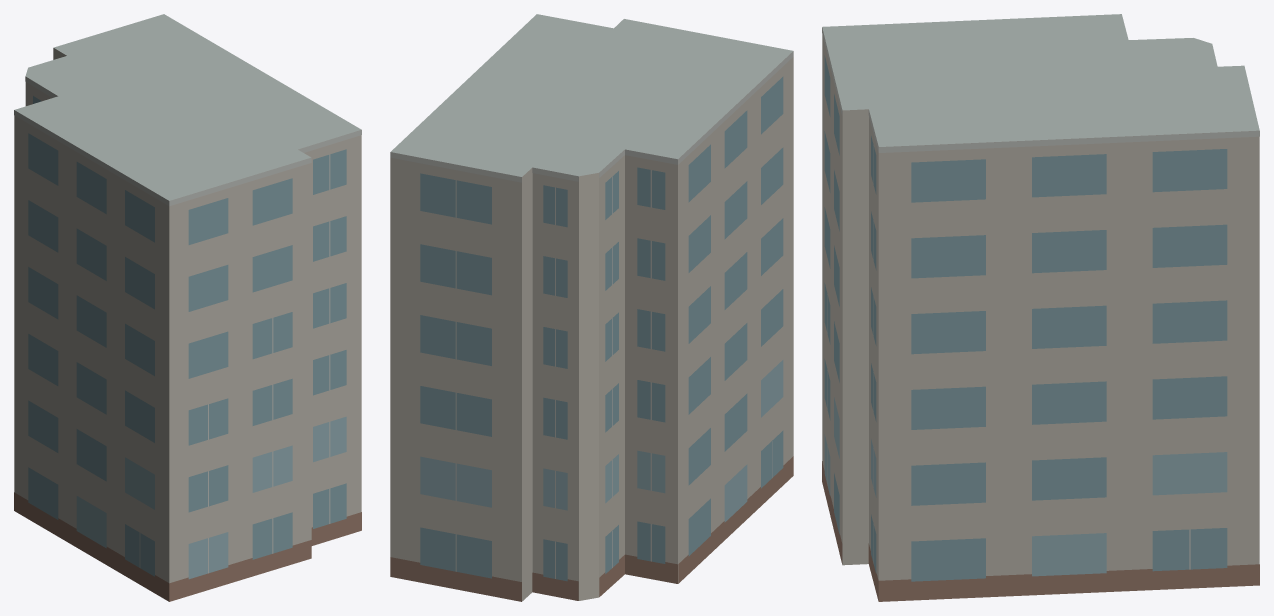
The model's file is survey-upis-32982327.glb.
3 renders of one model, left to right at view 1: azimuth 30°, elevation 25°; view 2: azimuth 150°, elevation 25°; view 3: azimuth 270°, elevation 25°, orthographic. The views are drawn at different scales.
Parts seen in each view (by area): view 1: survey-upis-32982327.tmp; view 2: survey-upis-32982327.tmp; view 3: survey-upis-32982327.tmp.
Boxes of the visible parts, x1=… form: survey-upis-32982327.tmp: x1=14, y1=14, x2=361, y2=601; survey-upis-32982327.tmp: x1=390, y1=14, x2=793, y2=601; survey-upis-32982327.tmp: x1=822, y1=14, x2=1259, y2=601.
Size of the model in its own units: 11.56 by 18.4 by 16.06.
